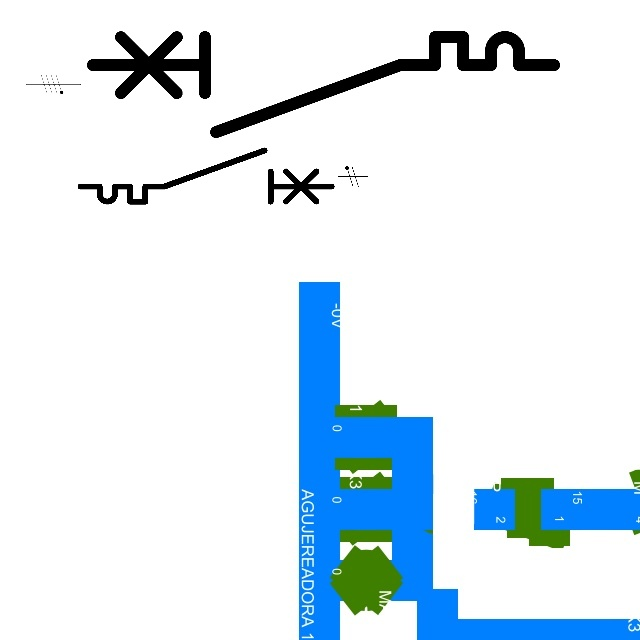interruptor_termomagnetico: (80, 25, 565, 144), (74, 144, 338, 208)
